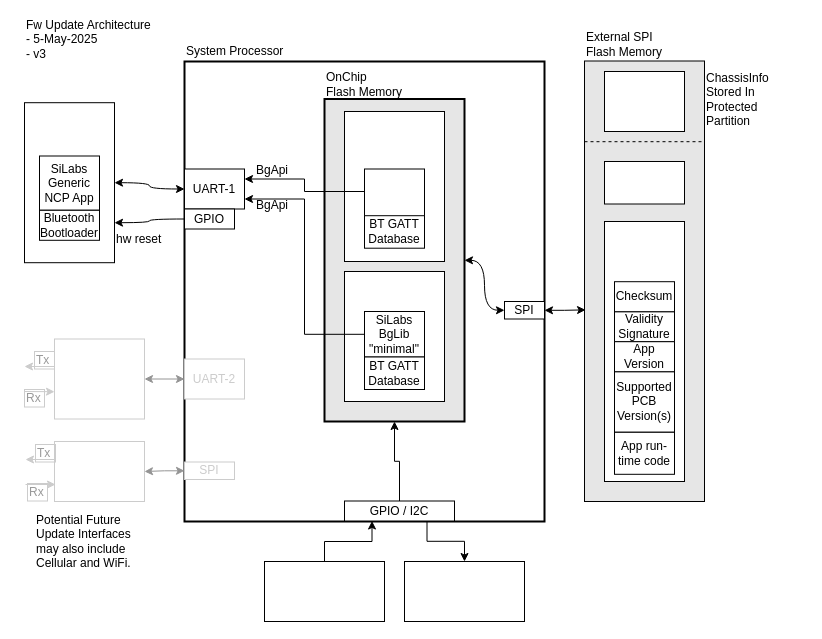
Some shapes in this 822 by 639 pixel diagram are drawn without their labels. The box of each missing label's shape, as (x1, y1, x2, y2) in pixels:
Active RWLS Application: (344, 110, 444, 262)
Bluetooth Low Energy Module: (24, 102, 114, 263)
Bootloader Firmware: (344, 270, 444, 402)
Calibration & Configuration Data: (604, 160, 684, 204)
CAN Bus CoProcessor (CAN-FD): (54, 440, 144, 502)
ChassisInfo - Serial No. - PCB No. - Model No.: (604, 70, 684, 132)
Display backlight or other LED used for feedback to user.: (404, 560, 524, 622)
Keypad or other HW IO to enter Bootloader FW Update Mode: (264, 560, 384, 622)
RS-232 Transceiver (forward): (54, 338, 144, 419)
SiLabs BgLib "full": (364, 168, 424, 222)
Updated RWLS Application: (604, 220, 684, 482)
